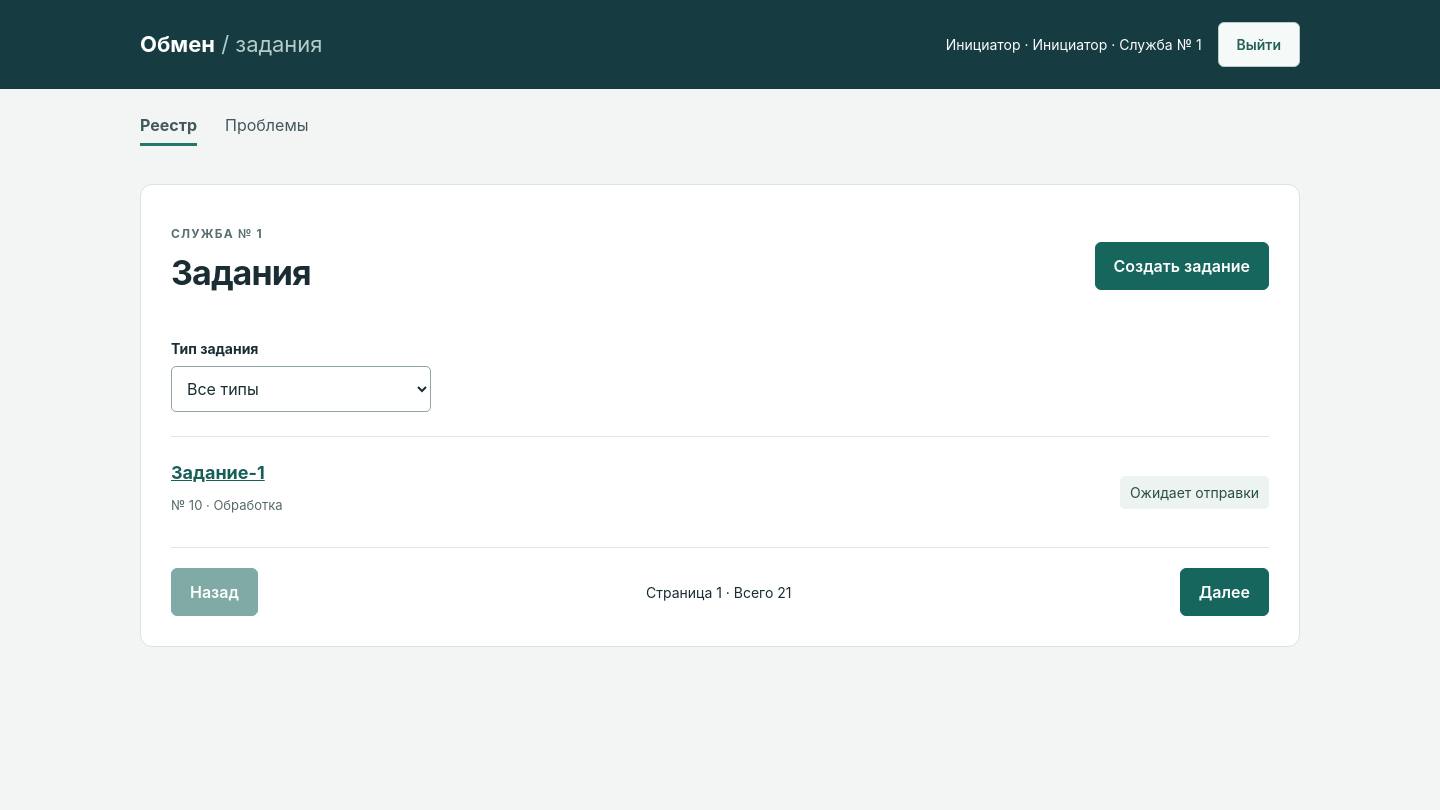
F-T003: фильтр сбрасывает страницу, пагинация следует API
Select "Исследование" in the dropdown labelled "Тип задания" at (301, 389), box [171,366,431,412]
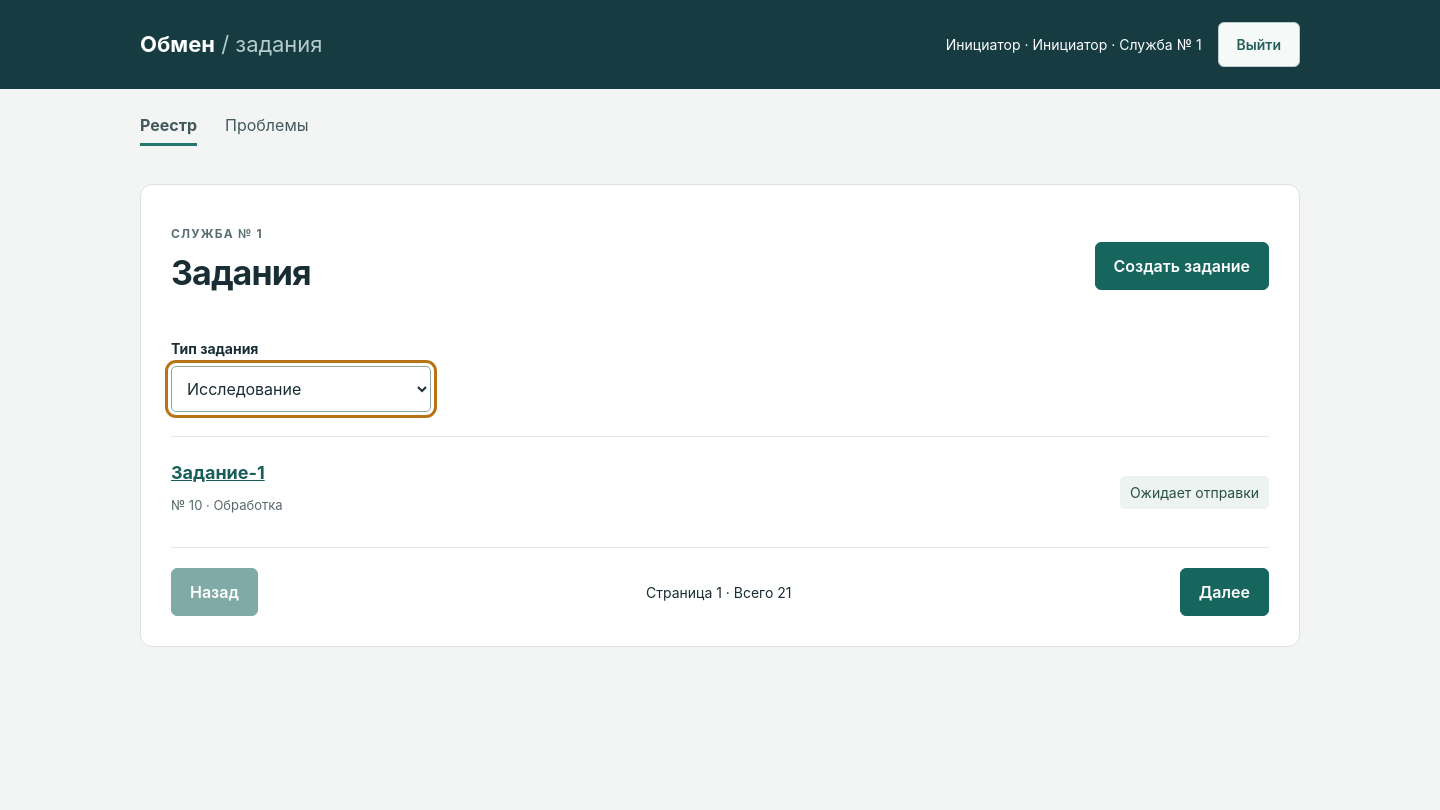
Click the button "Далее".
click(1224, 592)  # box [1180,568,1269,616]
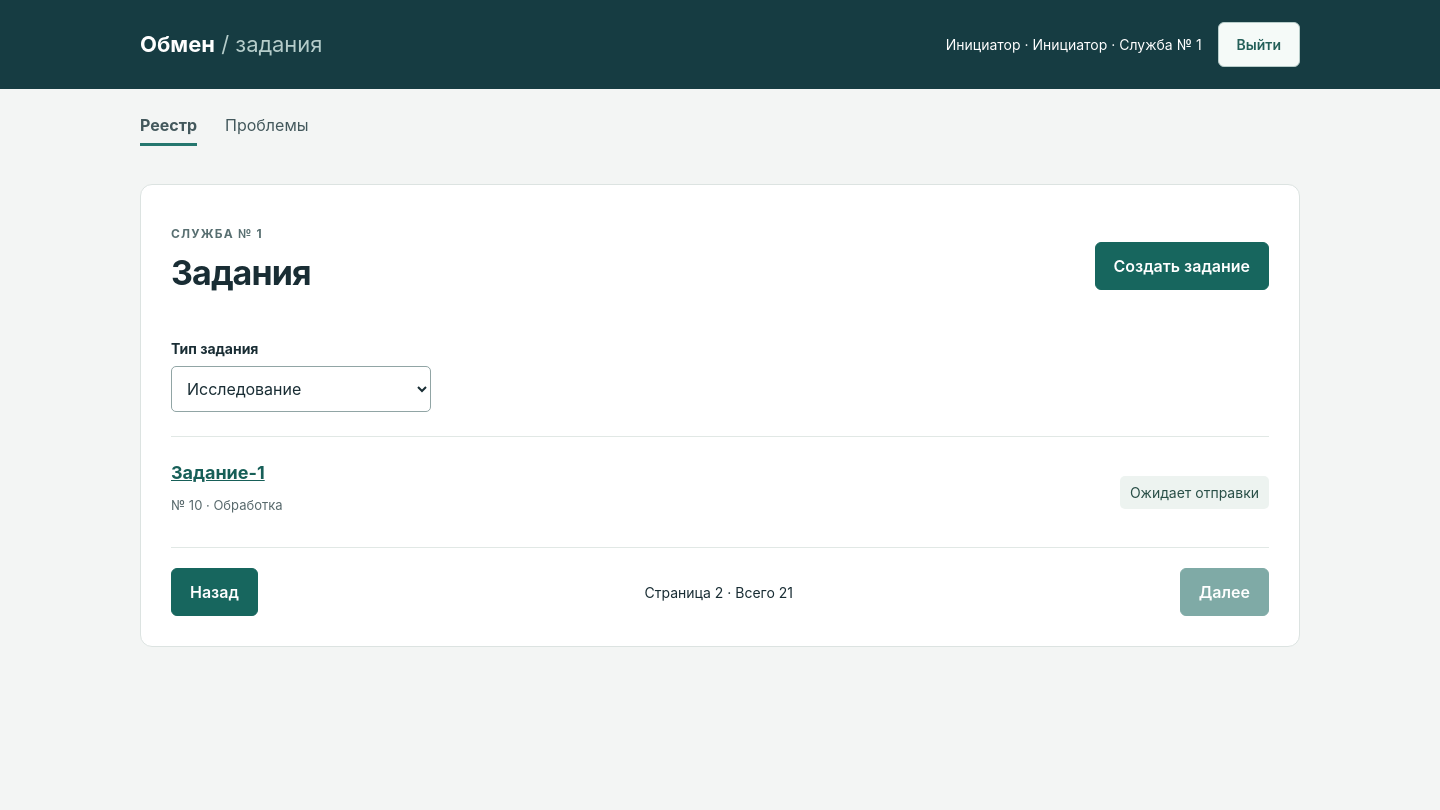
Result: the text "Страница 2 · Всего 21" is shown at [644,582,793,603]
Select "Сбор" in the dropdown labelled "Тип задания" at (301, 389), box [171,366,431,412]
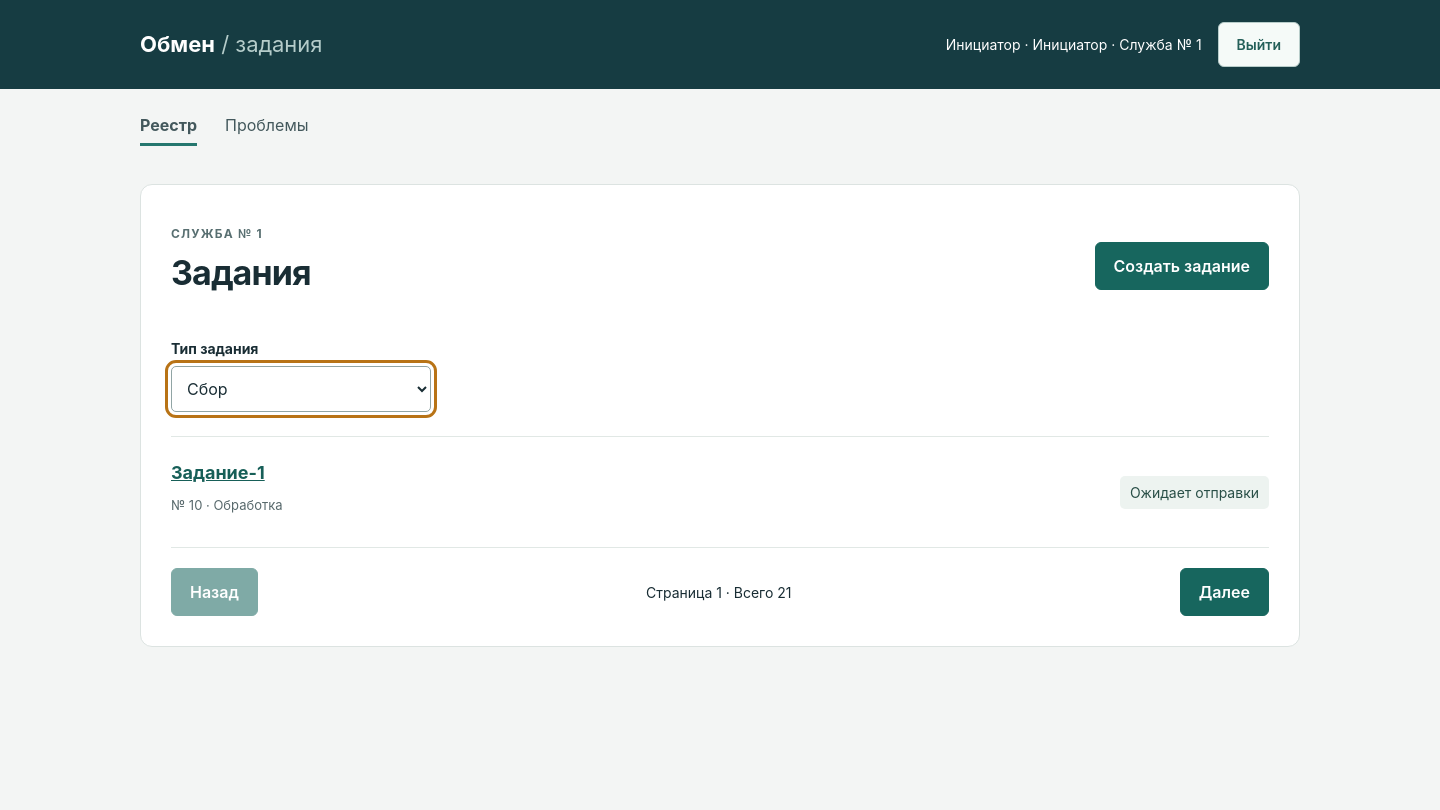
Result: the text "Страница 1 · Всего 21" is shown at [646,582,792,603]
